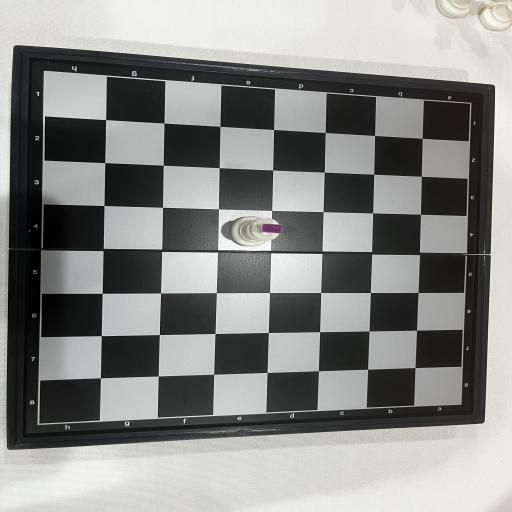White king: (230, 216, 281, 246)
